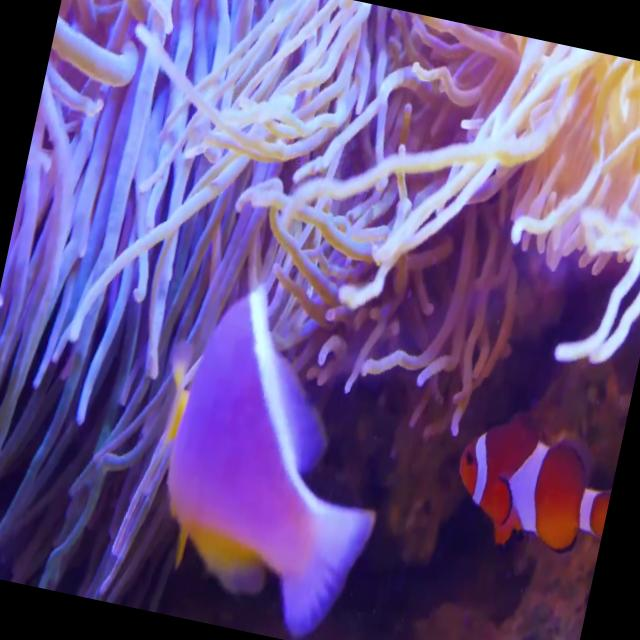fish: (126, 278, 398, 632)
